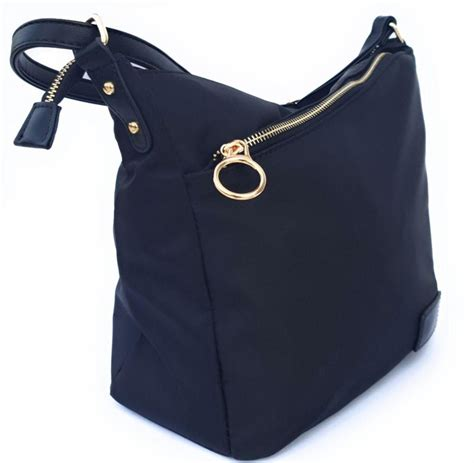nylon: (70, 36, 439, 463)
